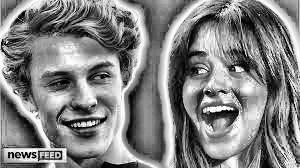happy: (170, 9, 288, 166)
